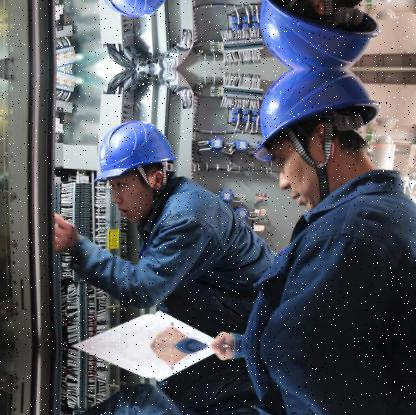helmet: (242, 68, 389, 196), (91, 105, 183, 225), (242, 0, 390, 69), (90, 0, 183, 32)
